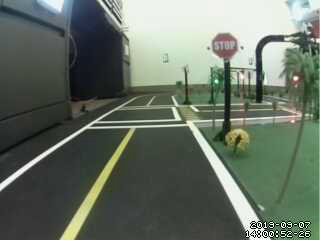Stop_Sign: (209, 29, 247, 64)
